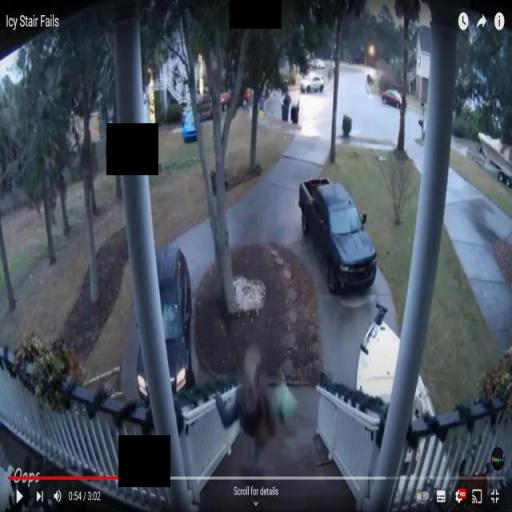Fall: (214, 340, 293, 468)
